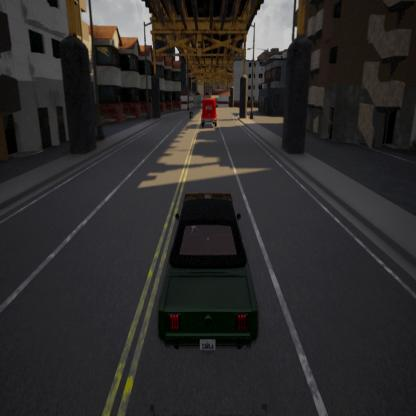Cars: (157, 192, 260, 352), (200, 96, 218, 127), (187, 101, 192, 118)
